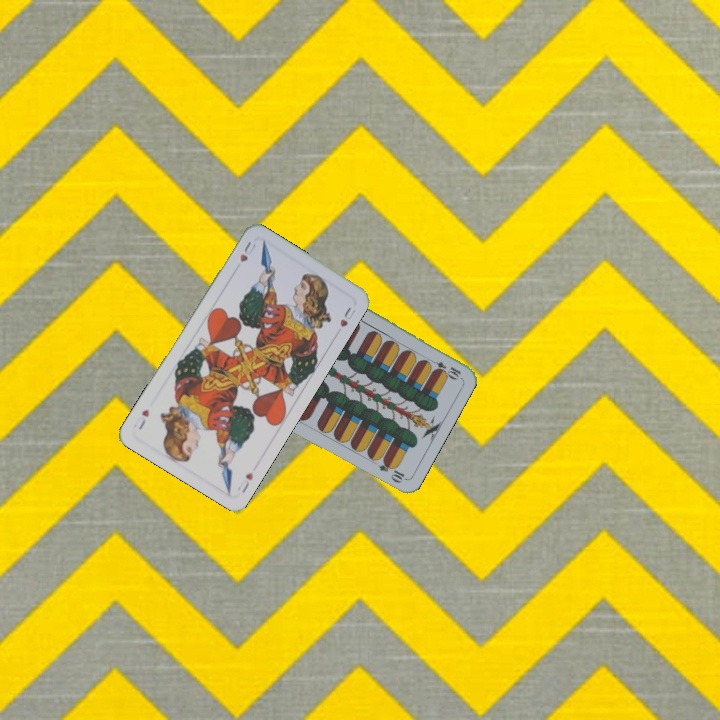E10: (424, 355, 463, 381)
HU: (236, 237, 259, 265), (233, 468, 256, 496)
